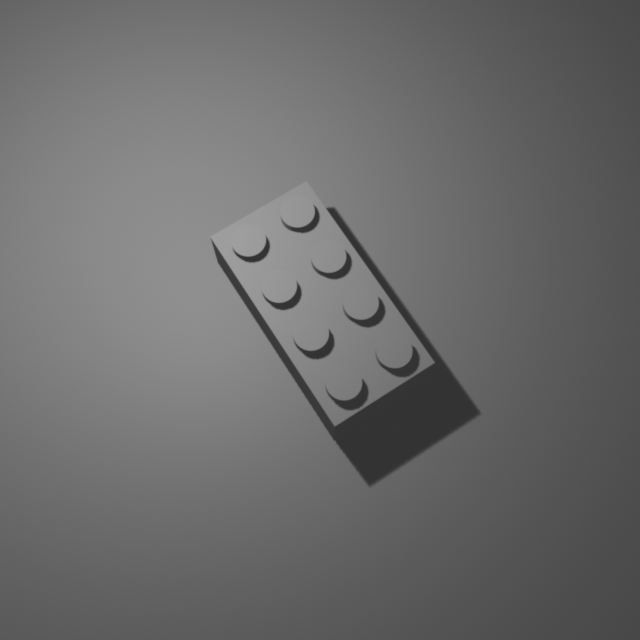lego_2x4: (209, 176, 436, 440)
